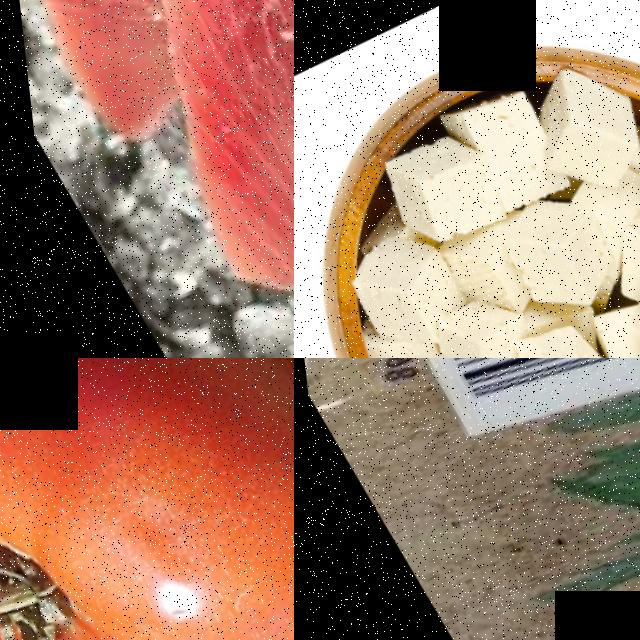tofu: (473, 176, 629, 326), (362, 119, 519, 264), (325, 220, 479, 358), (508, 57, 640, 205), (475, 308, 633, 358)
tomato: (0, 358, 294, 640)
tuna: (66, 0, 294, 347)
